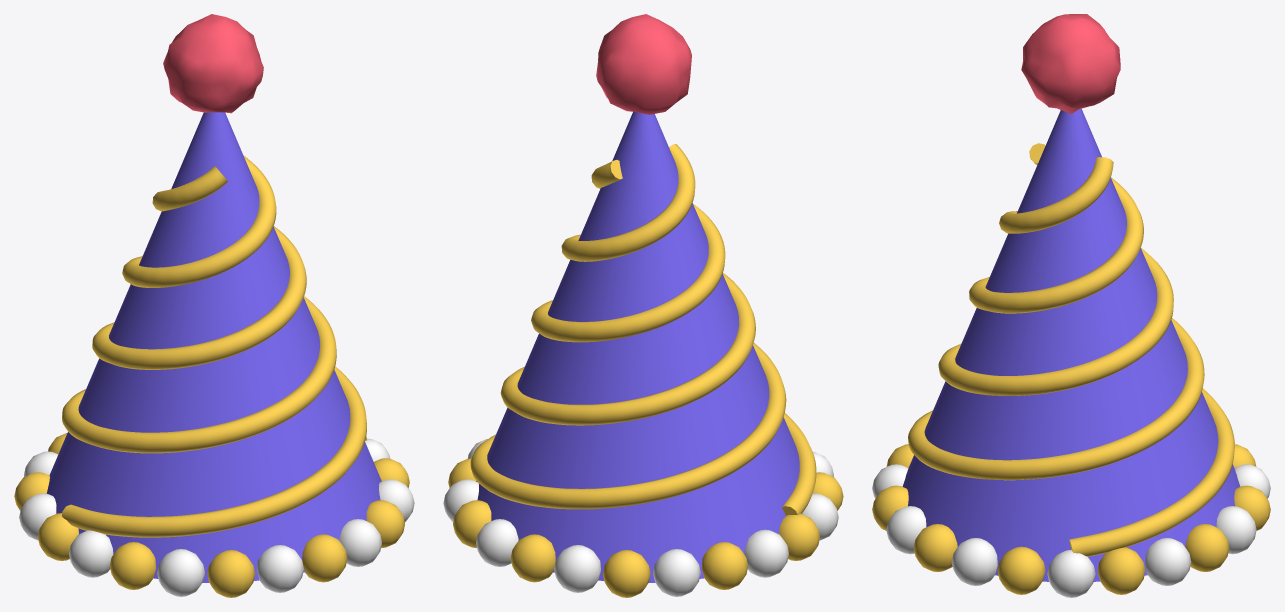
File: party.glb
3 views of the same model, side by side, from view 1: azimuth 30°, elevation 25°; view 2: azimuth 150°, elevation 25°; view 3: azimuth 270°, elevation 25° (orthographic).
Visible parts, largest first — view 1: cepice, cepice_pruh_3, cepice_pruh_0, cepice_bambule, cepice_lem_15, cepice_lem_14, cepice_lem_16, cepice_lem_13, cepice_lem_17, cepice_lem_12, cepice_lem_18, cepice_lem_11 (+6 smaller); view 2: cepice, cepice_pruh_0, cepice_pruh_3, cepice_bambule, cepice_lem_7, cepice_lem_8, cepice_lem_6, cepice_lem_9, cepice_lem_5, cepice_lem_10, cepice_lem_4, cepice_lem_11 (+4 smaller); view 3: cepice, cepice_pruh_0, cepice_pruh_3, cepice_bambule, cepice_lem_21, cepice_lem_1, cepice_lem_0, cepice_lem_2, cepice_lem_20, cepice_lem_19, cepice_lem_3, cepice_lem_18 (+5 smaller).
Boxes of the visible parts, box(x1,y1,x2,y2) form: cepice: box(46, 112, 381, 582); cepice_pruh_3: box(62, 166, 366, 537); cepice_pruh_0: box(62, 155, 366, 453); cepice_bambule: box(163, 14, 263, 113); cepice_lem_15: box(207, 550, 255, 597); cepice_lem_14: box(157, 549, 204, 596); cepice_lem_16: box(257, 545, 303, 592); cepice_lem_13: box(109, 542, 156, 589); cepice_lem_17: box(302, 534, 347, 582); cepice_lem_12: box(69, 530, 113, 577); cepice_lem_18: box(339, 519, 381, 566); cepice_lem_11: box(38, 513, 78, 560); cepice: box(476, 111, 799, 582); cepice_pruh_0: box(470, 160, 786, 509); cepice_pruh_3: box(500, 144, 816, 515); cepice_bambule: box(596, 14, 691, 114); cepice_lem_7: box(602, 550, 650, 597); cepice_lem_8: box(653, 549, 700, 596); cepice_lem_6: box(554, 545, 600, 592); cepice_lem_9: box(701, 542, 748, 589); cepice_lem_5: box(510, 534, 555, 582); cepice_lem_10: box(744, 529, 788, 577); cepice_lem_4: box(476, 519, 518, 566); cepice_lem_11: box(779, 513, 819, 560); cepice: box(902, 109, 1240, 581); cepice_pruh_0: box(938, 157, 1234, 556); cepice_pruh_3: box(908, 143, 1204, 480); cepice_bambule: box(1021, 14, 1120, 113); cepice_lem_21: box(997, 546, 1045, 594); cepice_lem_1: box(1097, 547, 1145, 594); cepice_lem_0: box(1047, 549, 1095, 597); cepice_lem_2: box(1145, 538, 1191, 585); cepice_lem_20: box(951, 538, 997, 585); cepice_lem_19: box(913, 524, 957, 571); cepice_lem_3: box(1185, 524, 1229, 571); cepice_lem_18: box(886, 506, 926, 554).
Size of the model in its own units: 0.5 by 0.6916 by 0.4955.
